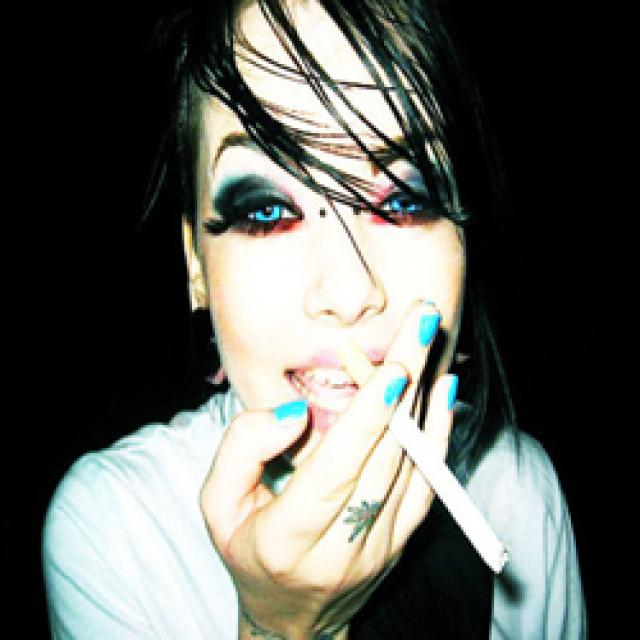Smooking: (326, 345, 527, 614)
